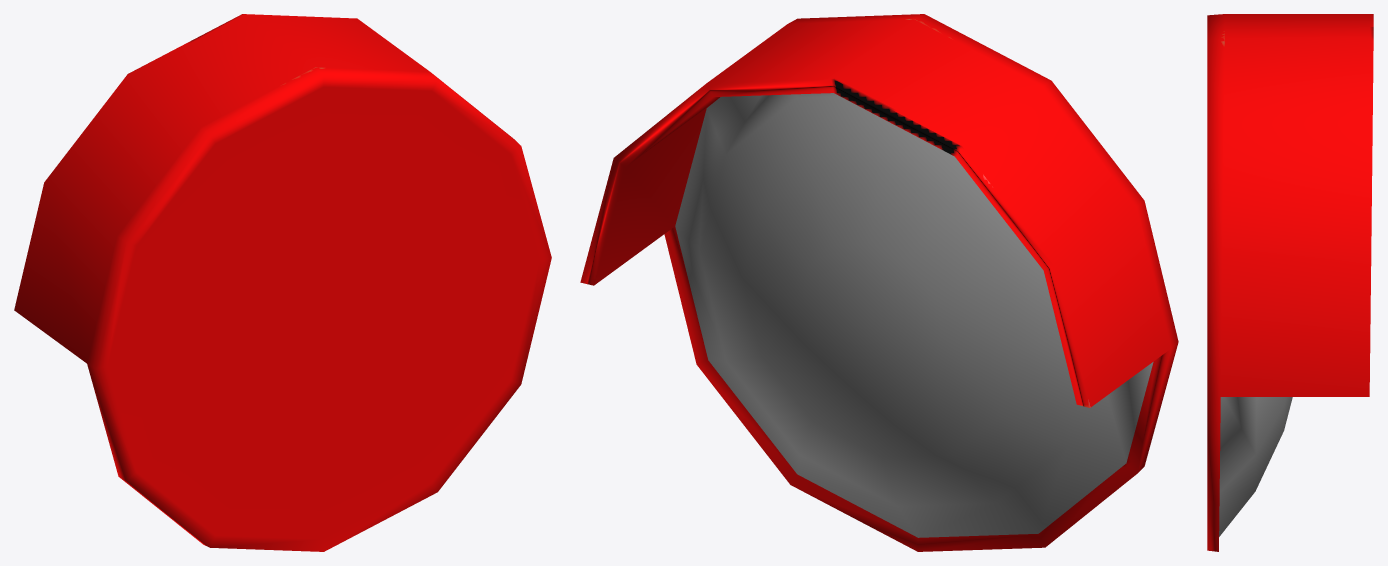
File: 8 concave.fbx
The picture shows the model from 3 angles, left to right: view 1: azimuth 30°, elevation 25°; view 2: azimuth 150°, elevation 25°; view 3: azimuth 270°, elevation 25°; orthographic projection. The views are drawn at different scales.
Parts seen in each view (by area): view 1: road_side_mirror; view 2: road_side_mirror; view 3: road_side_mirror.
Part boxes in pixels (box(x1,y1,x2,y2)): road_side_mirror: box(14, 14, 551, 551); road_side_mirror: box(580, 14, 1178, 551); road_side_mirror: box(1207, 14, 1373, 551).
Bounding box in the file's own units: 105 × 105 × 32.33.
Materials: 3 (1 with a texture image).
